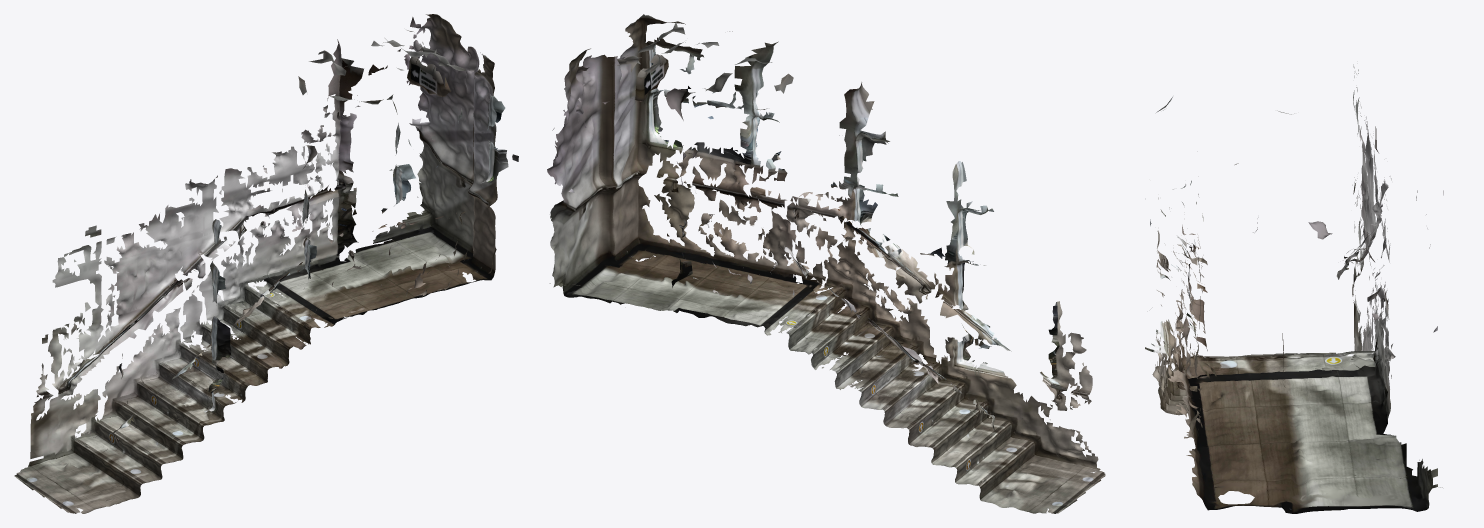
Rendered from 144543-tanggaA-tex.glb.
The picture shows the model from 3 angles, left to right: view 1: azimuth 30°, elevation 25°; view 2: azimuth 150°, elevation 25°; view 3: azimuth 270°, elevation 25°; orthographic projection. The views are drawn at different scales.
Visible parts, largest first — view 1: Node; view 2: Node; view 3: Node.
Part boxes in pixels (x1=…): Node: x1=14, y1=14, x2=518, y2=513; Node: x1=547, y1=14, x2=1105, y2=513; Node: x1=1145, y1=64, x2=1443, y2=513.
Bounding box in the file's own units: 5.72 × 4.31 × 2.21.
Materials: 8 (8 with a texture image).
